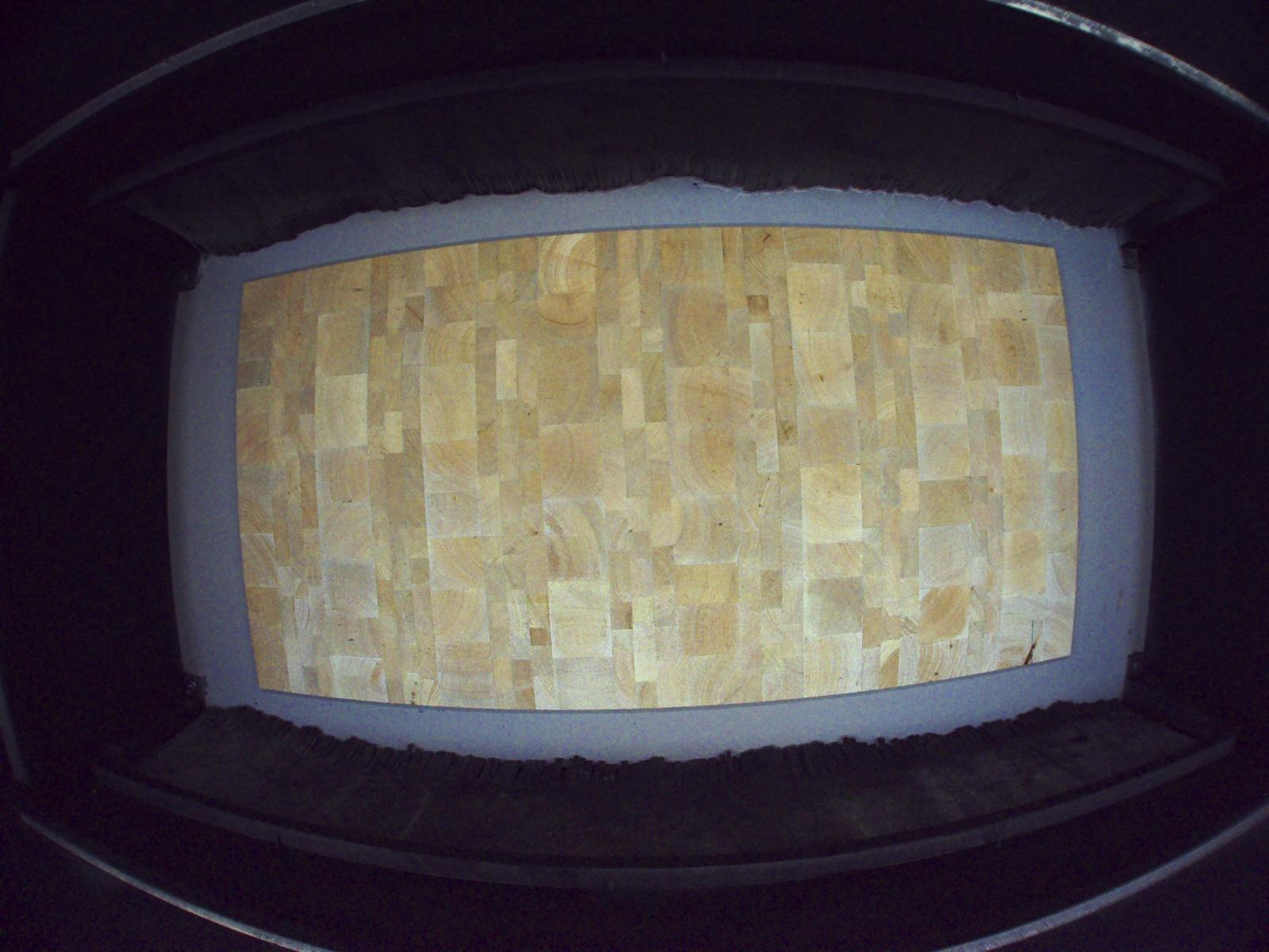nudillo: (1020, 632, 1043, 666)
